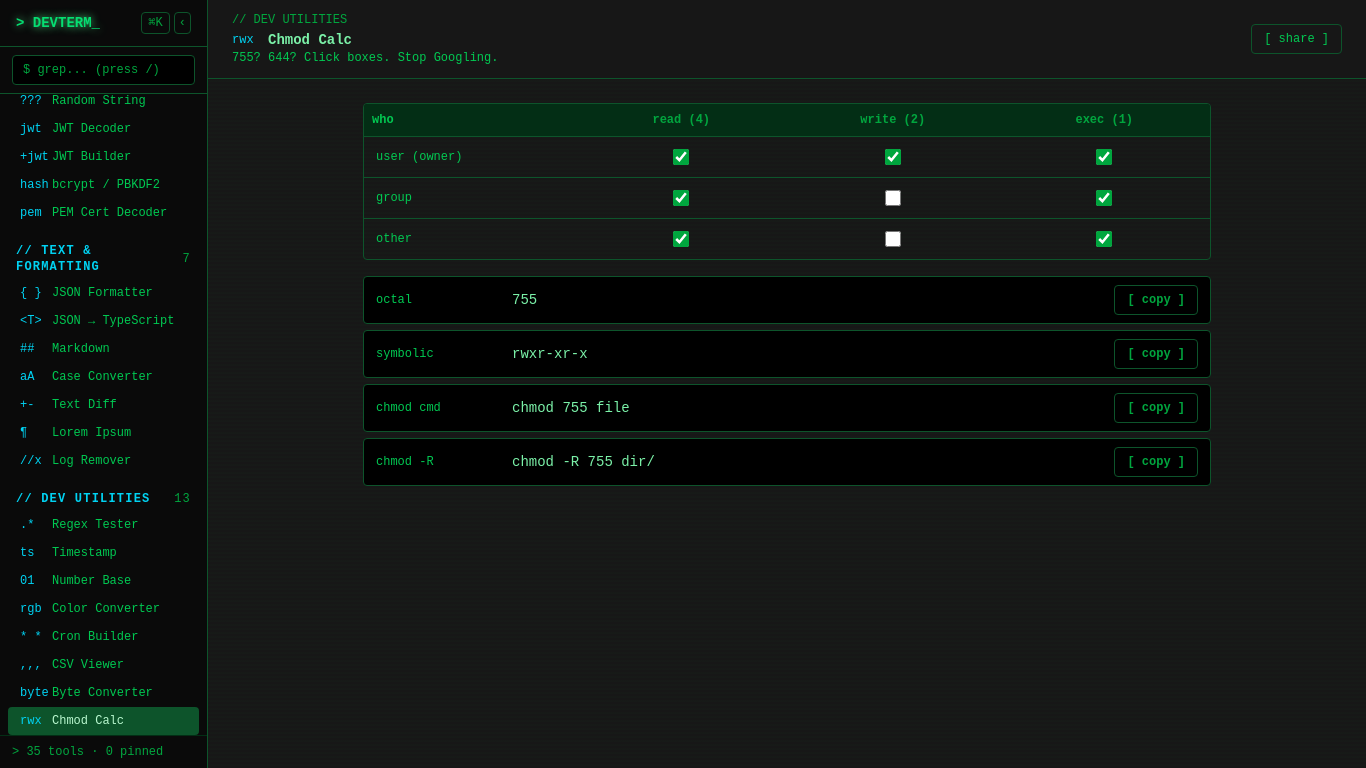
Chmod Calculator › shows 777 when all checkboxes checked
The width and height of the screenshot is (1366, 768).
(page scrolled)
Expected: the element that starts with "who" is shown, [363, 103, 1211, 486]
Check the 5th checkbox. click: (893, 198)
box: [885, 190, 901, 206]
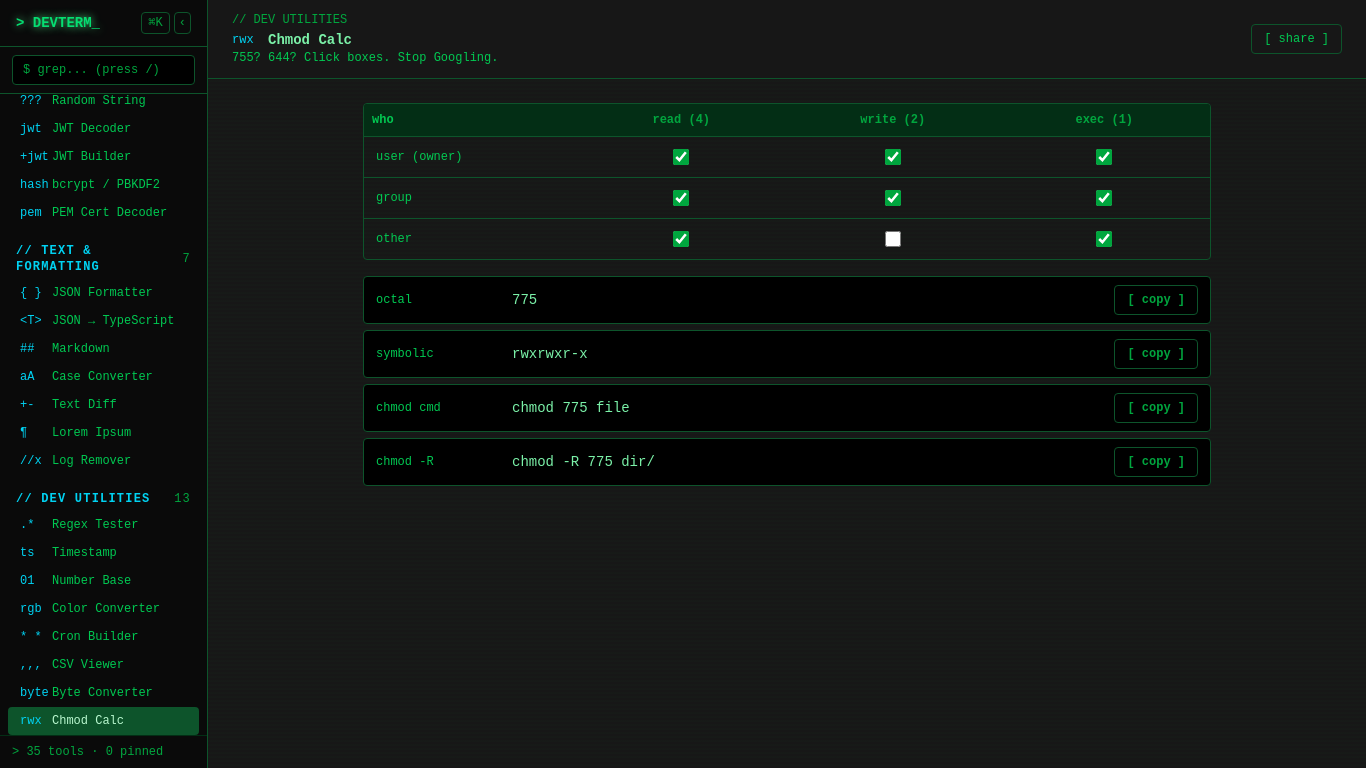
Check the 8th checkbox. click: (893, 239)
box: [885, 231, 901, 247]
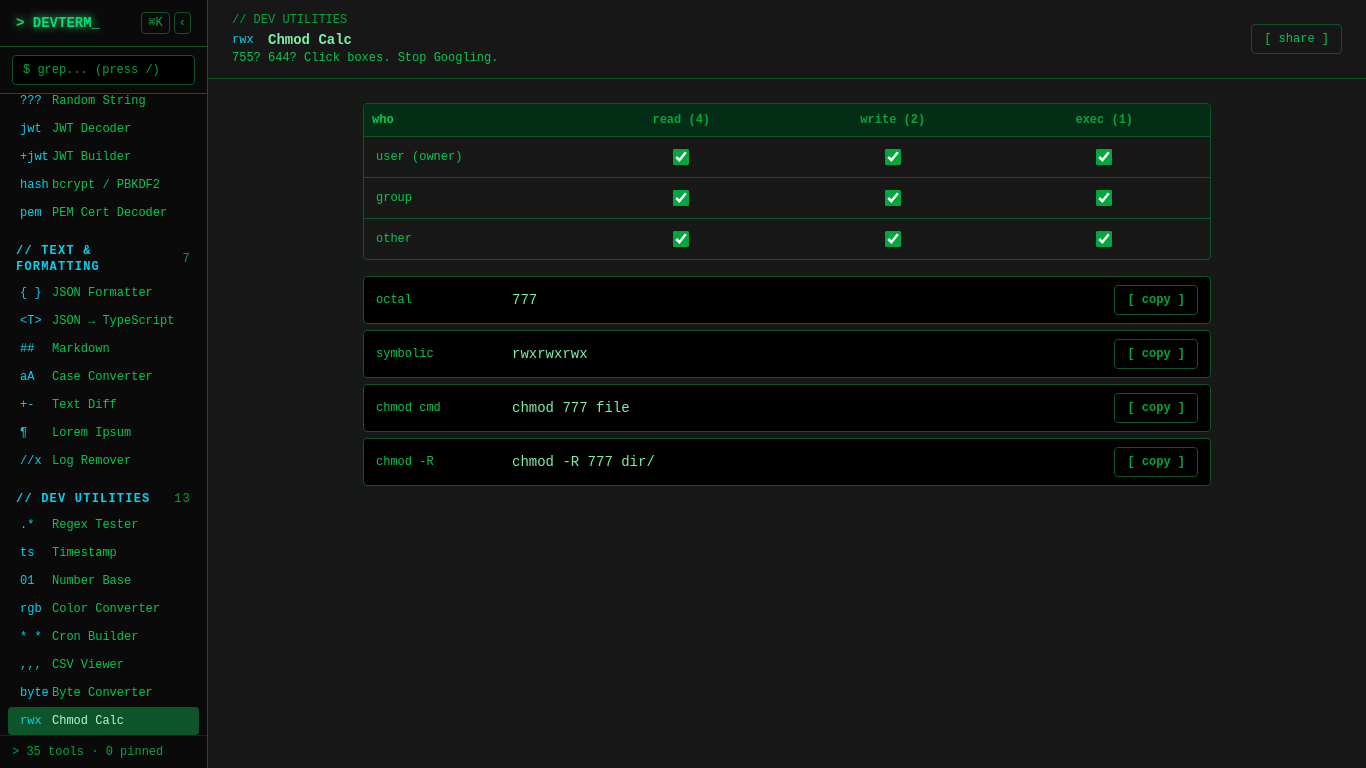
Result: the text "777" is shown at [512, 292, 537, 308]
